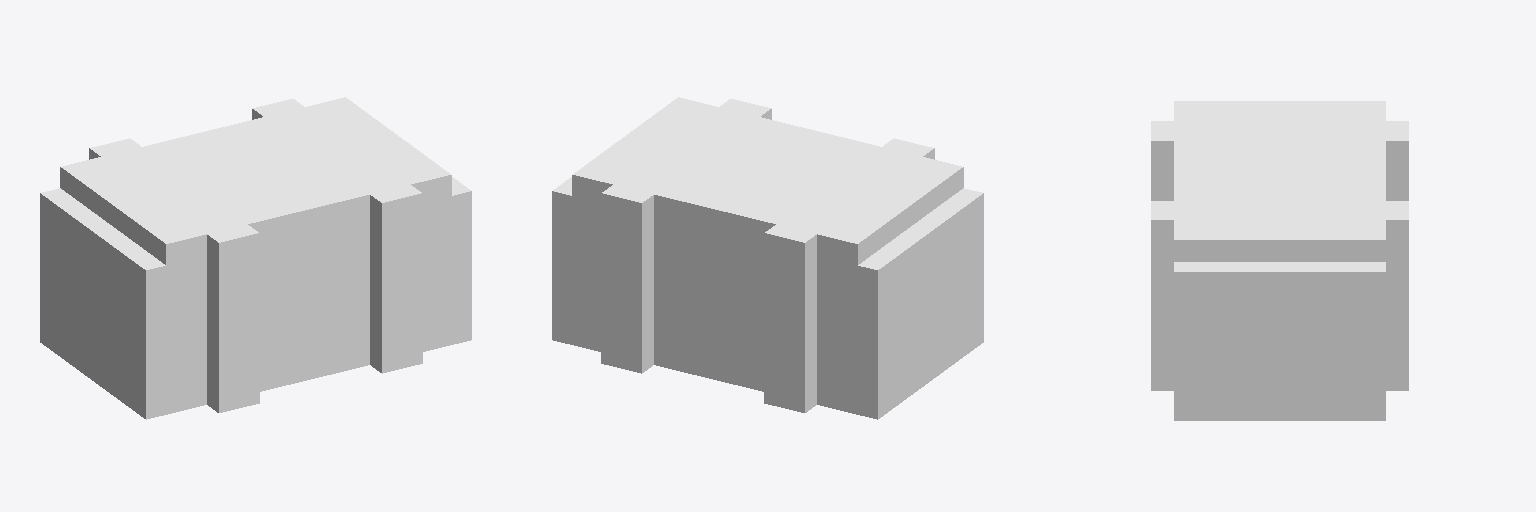
File: fuel-0-fuel.obj
The picture shows the model from 3 angles: view 1: azimuth 30°, elevation 25°; view 2: azimuth 150°, elevation 25°; view 3: azimuth 270°, elevation 25°; orthographic projection.
Visible parts, largest first — view 1: fuel; view 2: fuel; view 3: fuel.
Boxes of the visible parts, x1=… form: fuel: x1=40, y1=97, x2=471, y2=419; fuel: x1=552, y1=97, x2=983, y2=419; fuel: x1=1151, y1=101, x2=1408, y2=420.
Bounding box in the file's own units: 1.6 × 0.8 × 1.1.